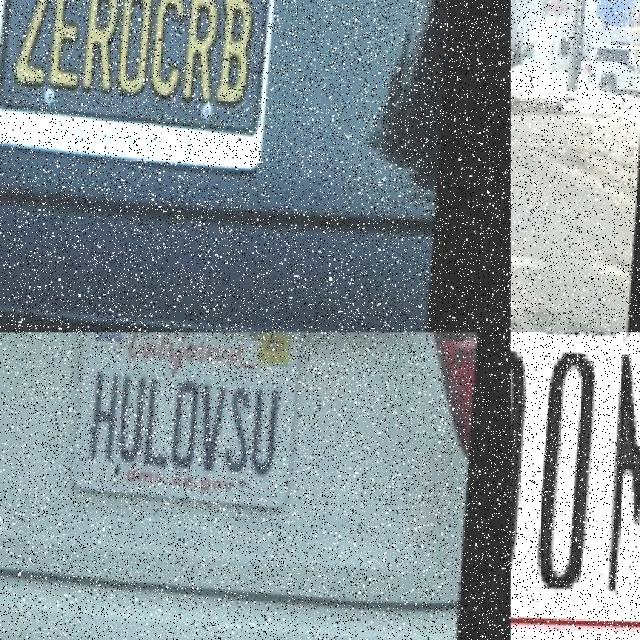licenseplate: (0, 0, 286, 169), (73, 332, 304, 517), (511, 332, 640, 612)
